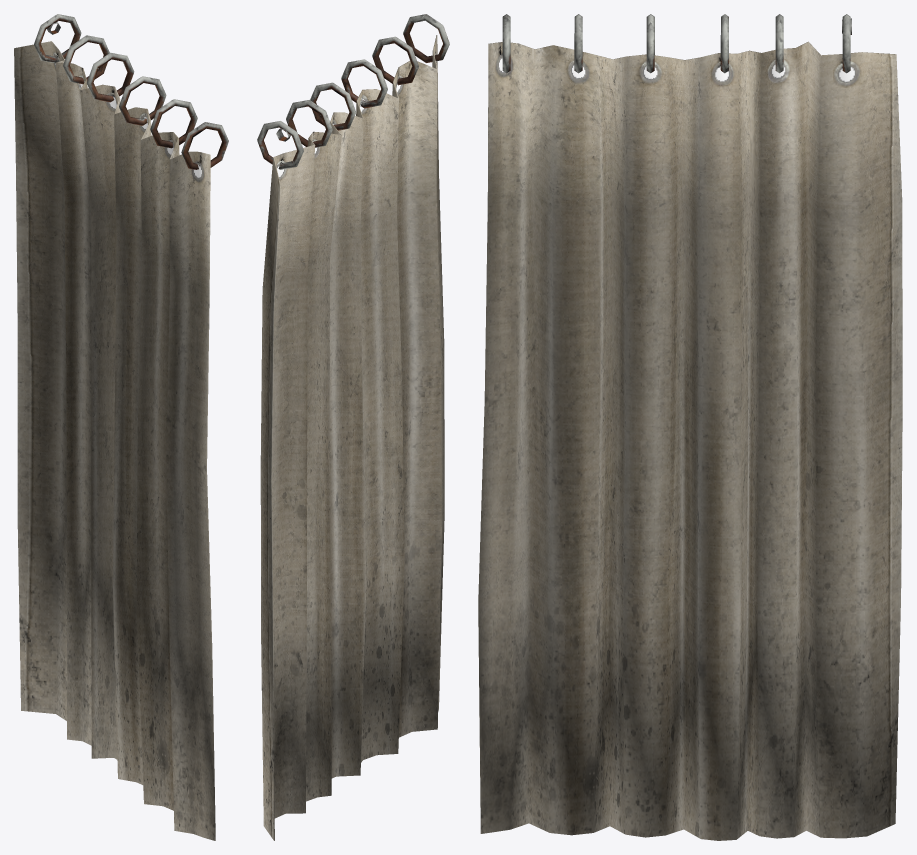
The model's file is perdeonly.fbx.
3 views of the same model, side by side, from view 1: azimuth 30°, elevation 25°; view 2: azimuth 150°, elevation 25°; view 3: azimuth 270°, elevation 25° (orthographic). The views are drawn at different scales.
Visible parts, largest first — view 1: Curtain; view 2: Curtain; view 3: Curtain.
Part boxes in pixels (x1,y1,x2,y2): Curtain: (14, 14, 228, 840); Curtain: (257, 14, 449, 840); Curtain: (478, 14, 902, 840).
Size of the model in its own units: 39.1 by 525 by 246.
